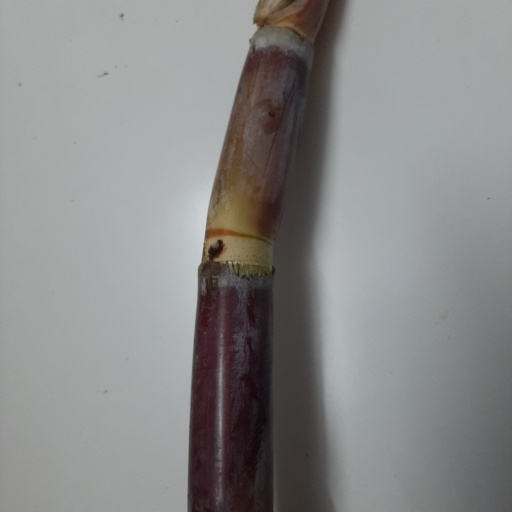Damage_Bud: (208, 238, 226, 260)
